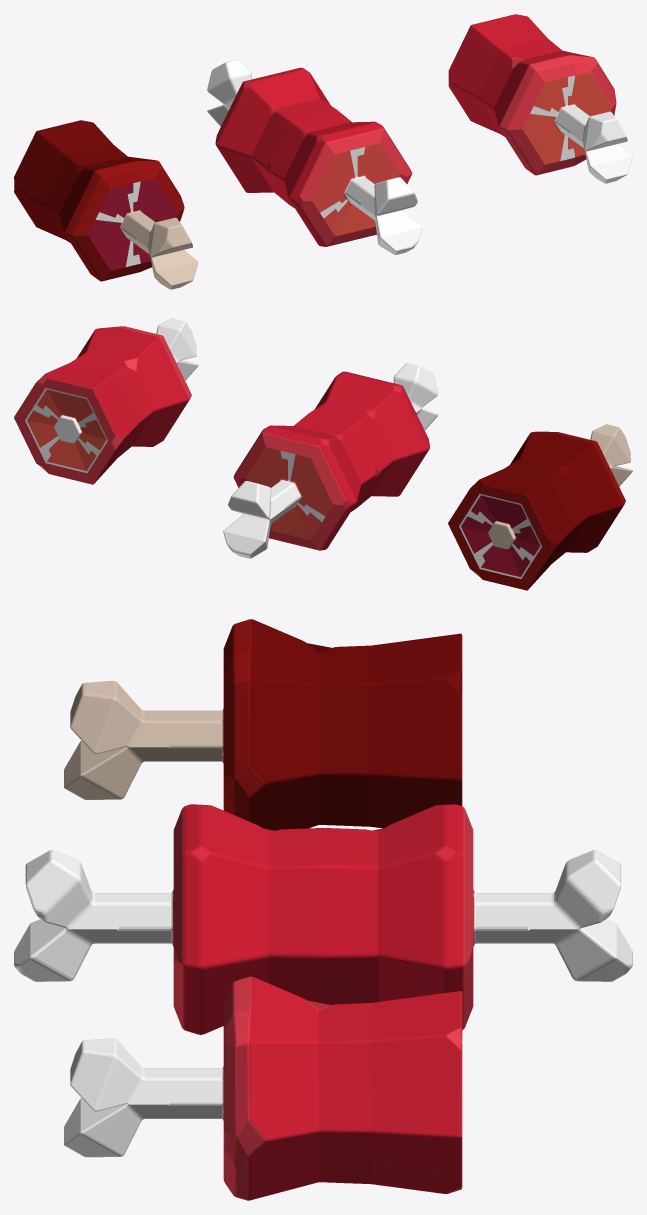
The model's file is Meat.fbx.
3 renders of one model, top to bottom at view 1: azimuth 30°, elevation 25°; view 2: azimuth 150°, elevation 25°; view 3: azimuth 270°, elevation 25°, orthographic. The views are drawn at different scales.
Visible parts, largest first — view 1: WholeMeat, CookedHalfMeat, HalfMeat; view 2: WholeMeat, CookedHalfMeat, HalfMeat; view 3: WholeMeat, HalfMeat, CookedHalfMeat.
Boxes of the visible parts, <box> form: WholeMeat: <box>207,59,422,254</box>; CookedHalfMeat: <box>14,120,198,289</box>; HalfMeat: <box>448,14,632,183</box>; WholeMeat: <box>223,363,438,558</box>; CookedHalfMeat: <box>448,424,632,590</box>; HalfMeat: <box>14,318,198,484</box>; WholeMeat: <box>14,804,632,1034</box>; HalfMeat: <box>64,976,462,1200</box>; CookedHalfMeat: <box>64,619,462,830</box>.
Bounding box in the file's own units: 393 × 78.82 × 227.
